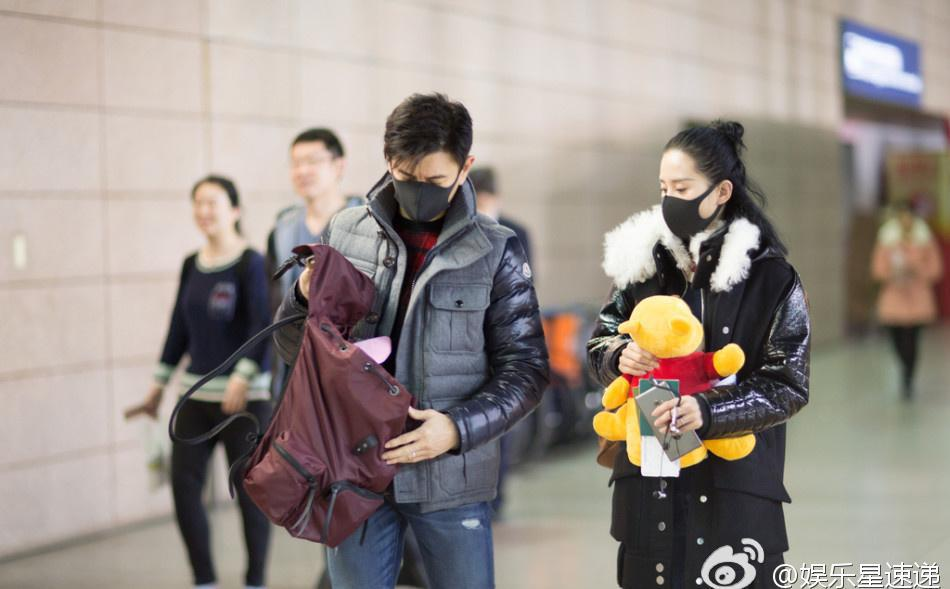NONE: (295, 149, 333, 196), (191, 196, 229, 235)
OK: (389, 154, 461, 226), (656, 164, 728, 236)
